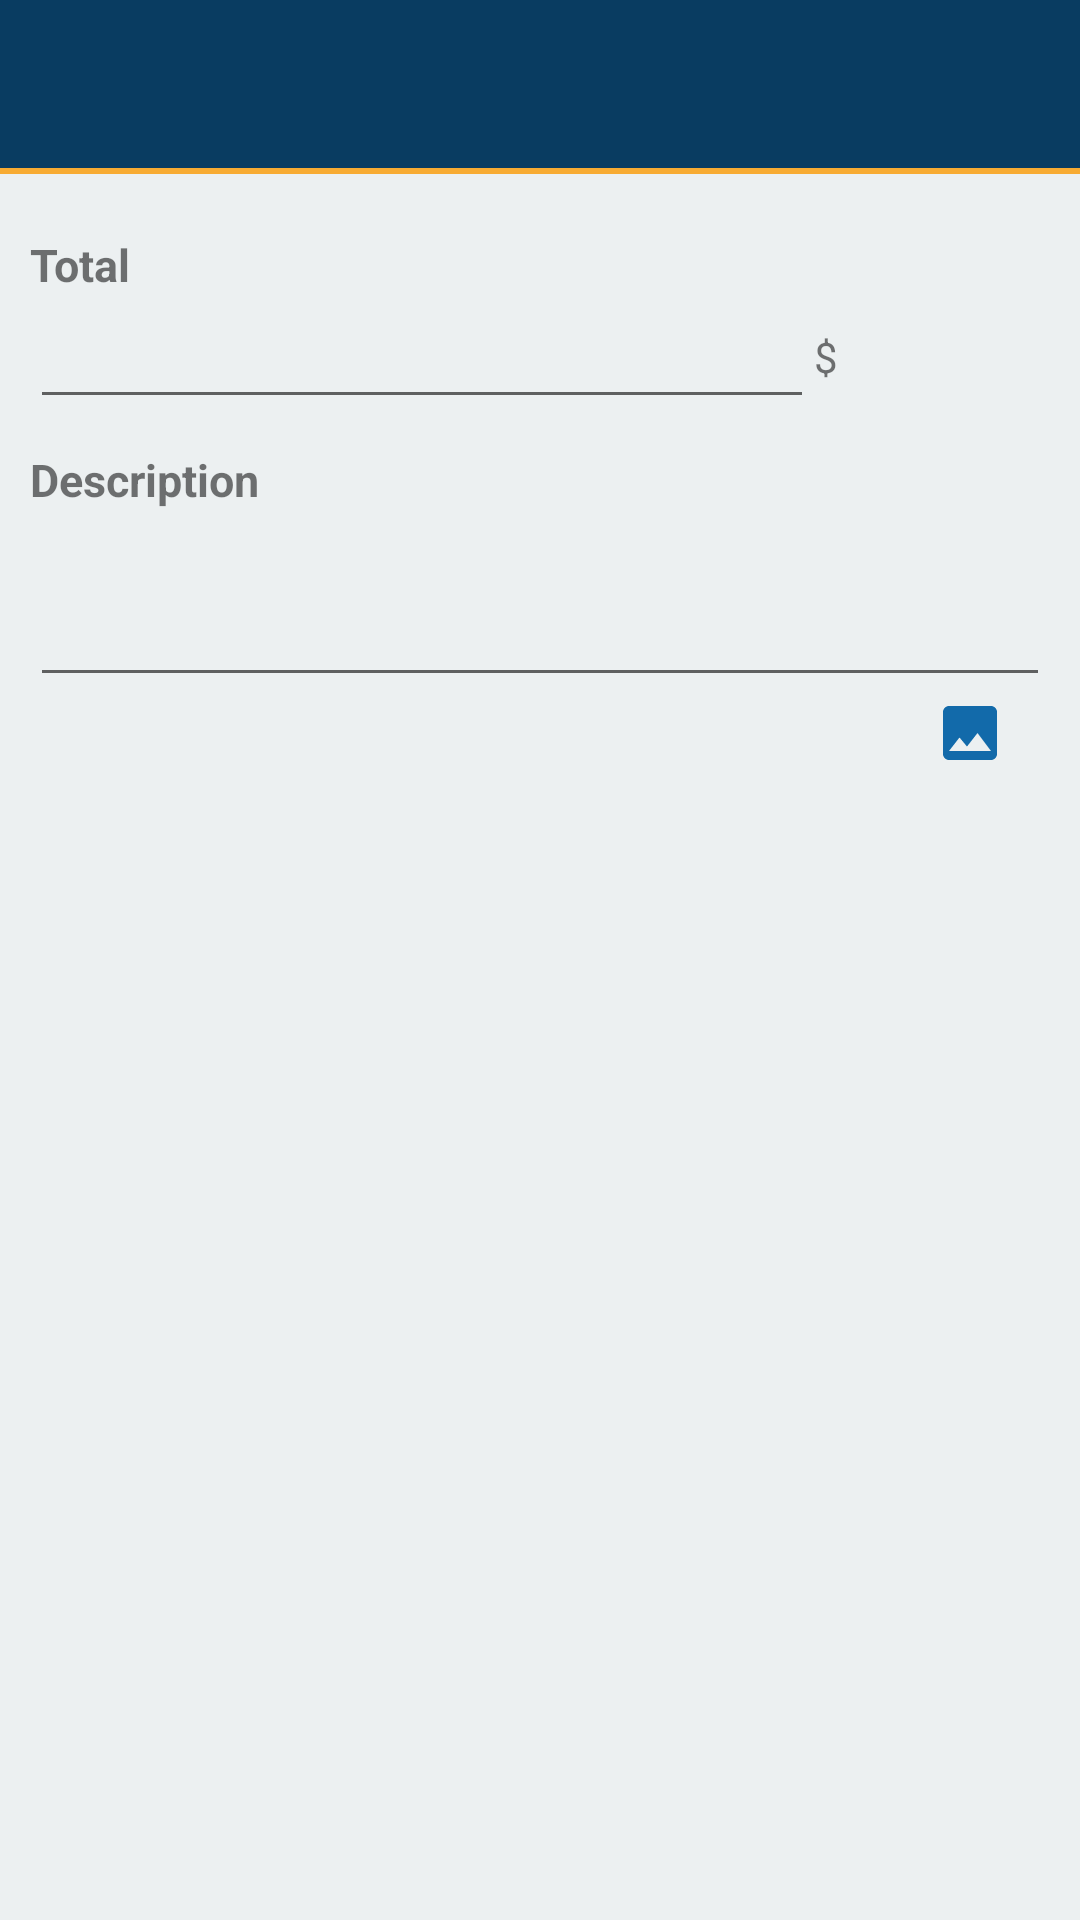

Point at icon controls on the screen. Image size 1080x1920, points as point (x, y).
insert photo: point (970, 733)
